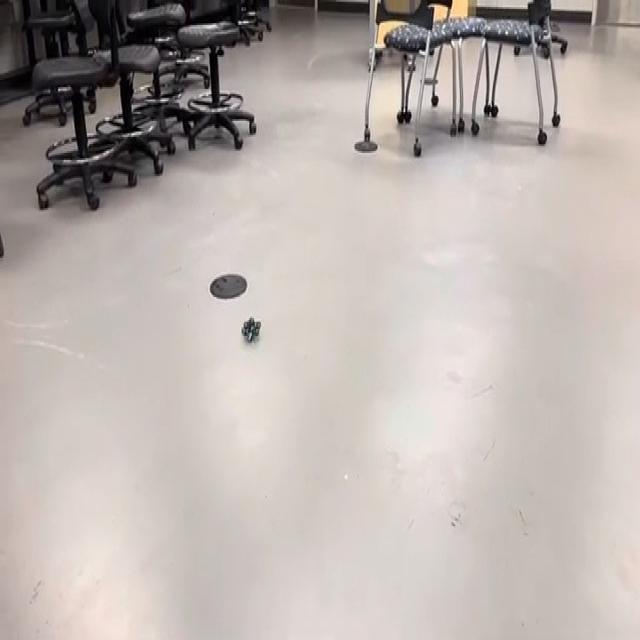drone: (233, 306, 267, 348)
